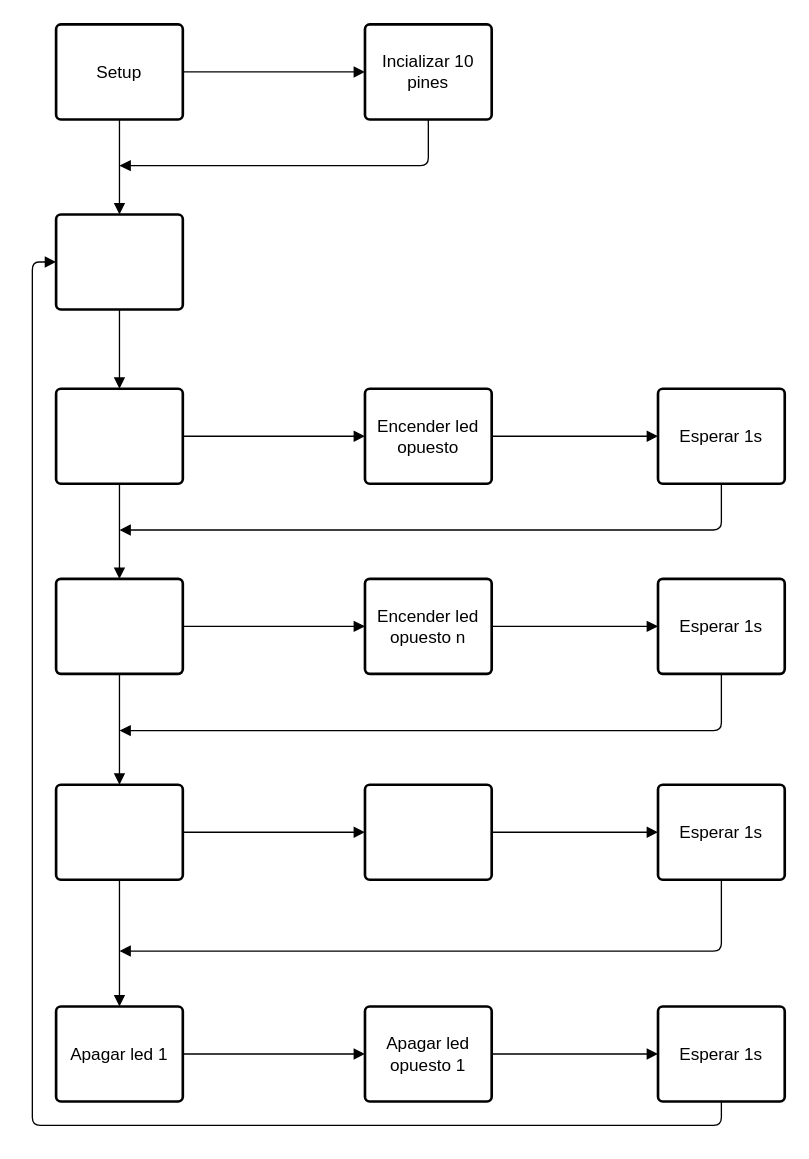
The diagram is 809 pixels wide and 1159 high, and some of its shapes have lost their labels. The shapes that lost their labels are listed below. From the top down, each one's centre as x and y in pixels, then its label:
At (x=118, y=261): "loop".
At (x=118, y=435): "Enceder led 1".
At (x=118, y=626): "Encender led n".
At (x=118, y=831): "Apagar led n".
At (x=427, y=831): "Apagar opuesto de n".
